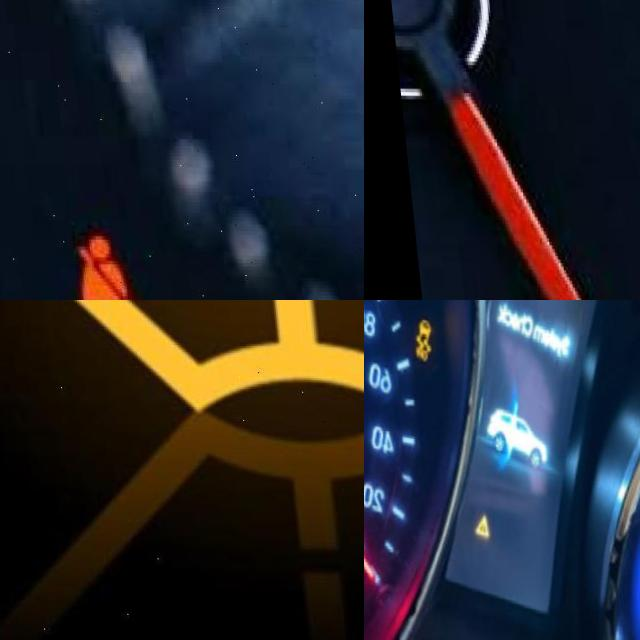Central Warning lamp: (461, 508, 489, 544)
Seat Belt: (56, 234, 136, 300)
Washer Fluid: (0, 300, 364, 410)
